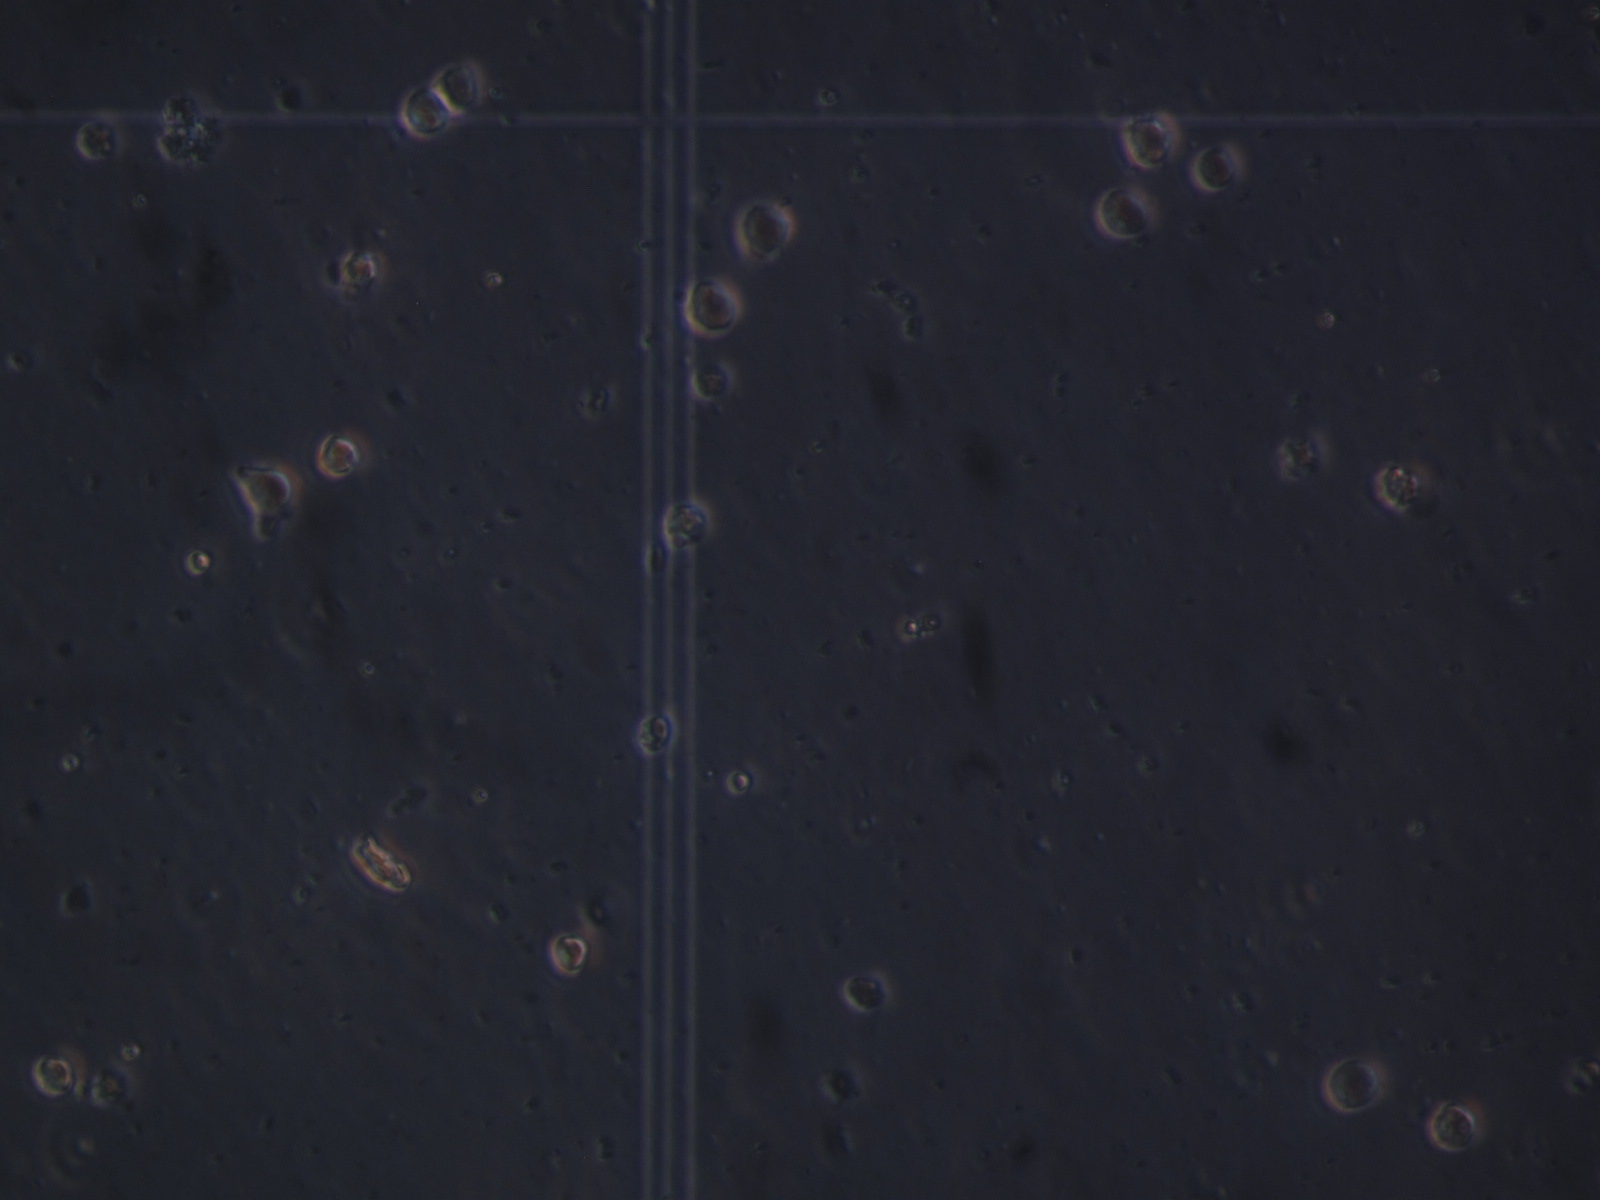hemo: (1322, 1055, 1387, 1113), (1123, 108, 1183, 170), (1095, 182, 1158, 241), (1427, 1097, 1490, 1155), (685, 275, 742, 338), (734, 198, 795, 255), (1373, 459, 1431, 516), (239, 465, 302, 513), (34, 1042, 86, 1100), (1193, 140, 1250, 192), (401, 84, 452, 139), (1279, 430, 1329, 485), (436, 62, 483, 118), (76, 113, 126, 165), (663, 499, 713, 550), (839, 967, 893, 1013), (317, 430, 360, 478), (637, 707, 678, 756), (690, 359, 736, 402), (339, 250, 384, 291), (194, 110, 228, 163), (552, 933, 590, 976), (157, 126, 197, 166), (161, 93, 199, 124)
